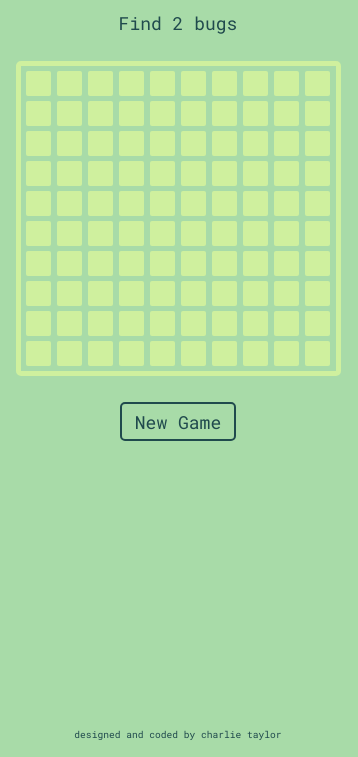
Scenario: Game › right click tile adds flag icon
The width and height of the screenshot is (358, 757).
Right-click the 1st element with test id "tile" at (38, 84), box [26,71,50,96]
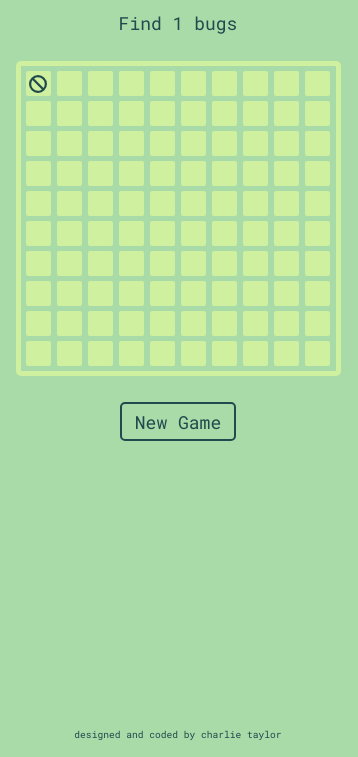
Expected: the icon with test id "flag-icon" is shown, [29,75,47,93]
